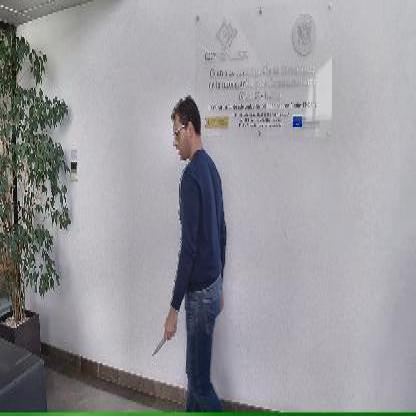knife: (150, 323, 174, 356)
